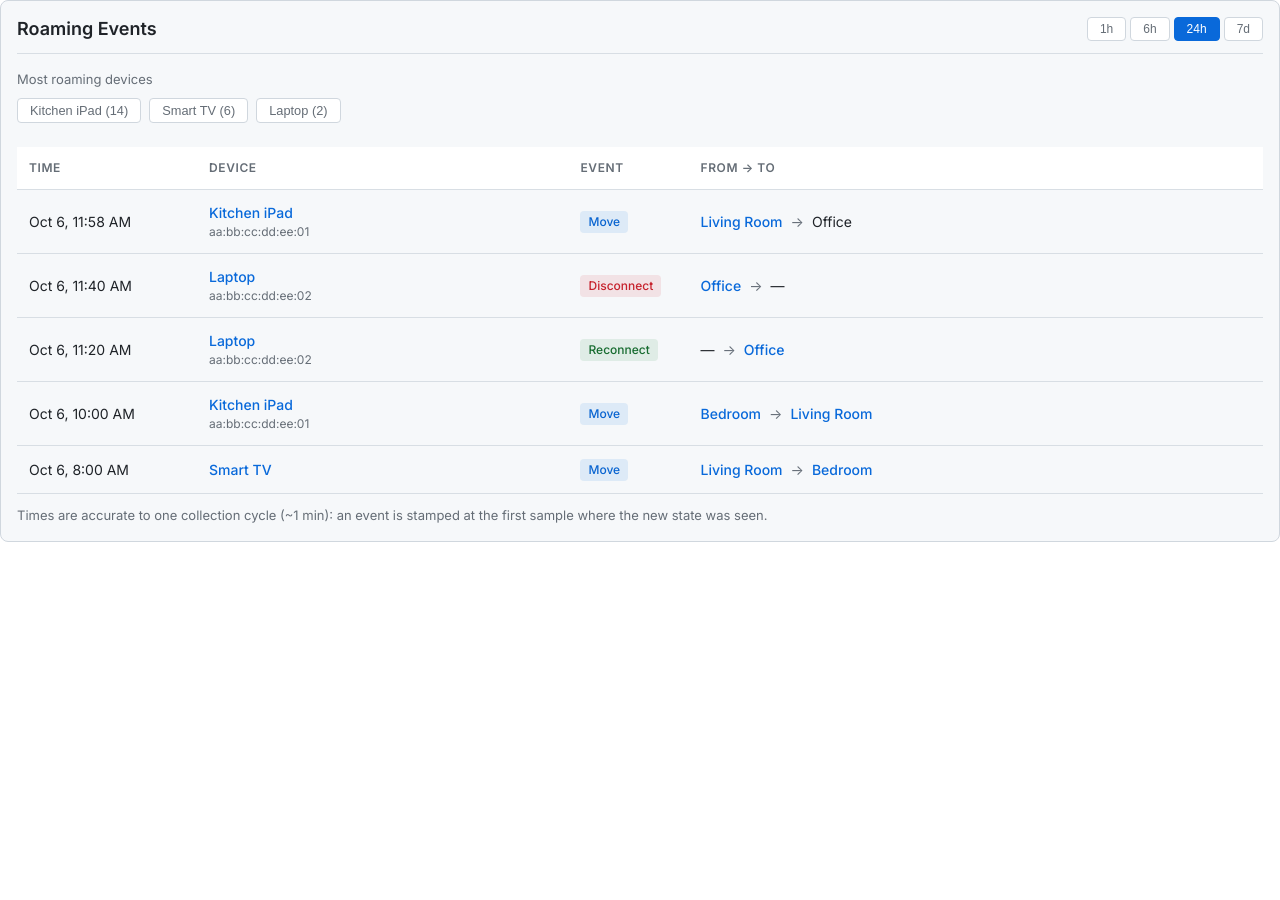
RoamingEventsCard › shows an error banner above the stale table when a same-scope refetch fails
expect the button "Kitchen iPad (14)" is shown: met, box [17,98,141,122]
Click the button "7d": point(1243, 29) [1224,17,1263,41]
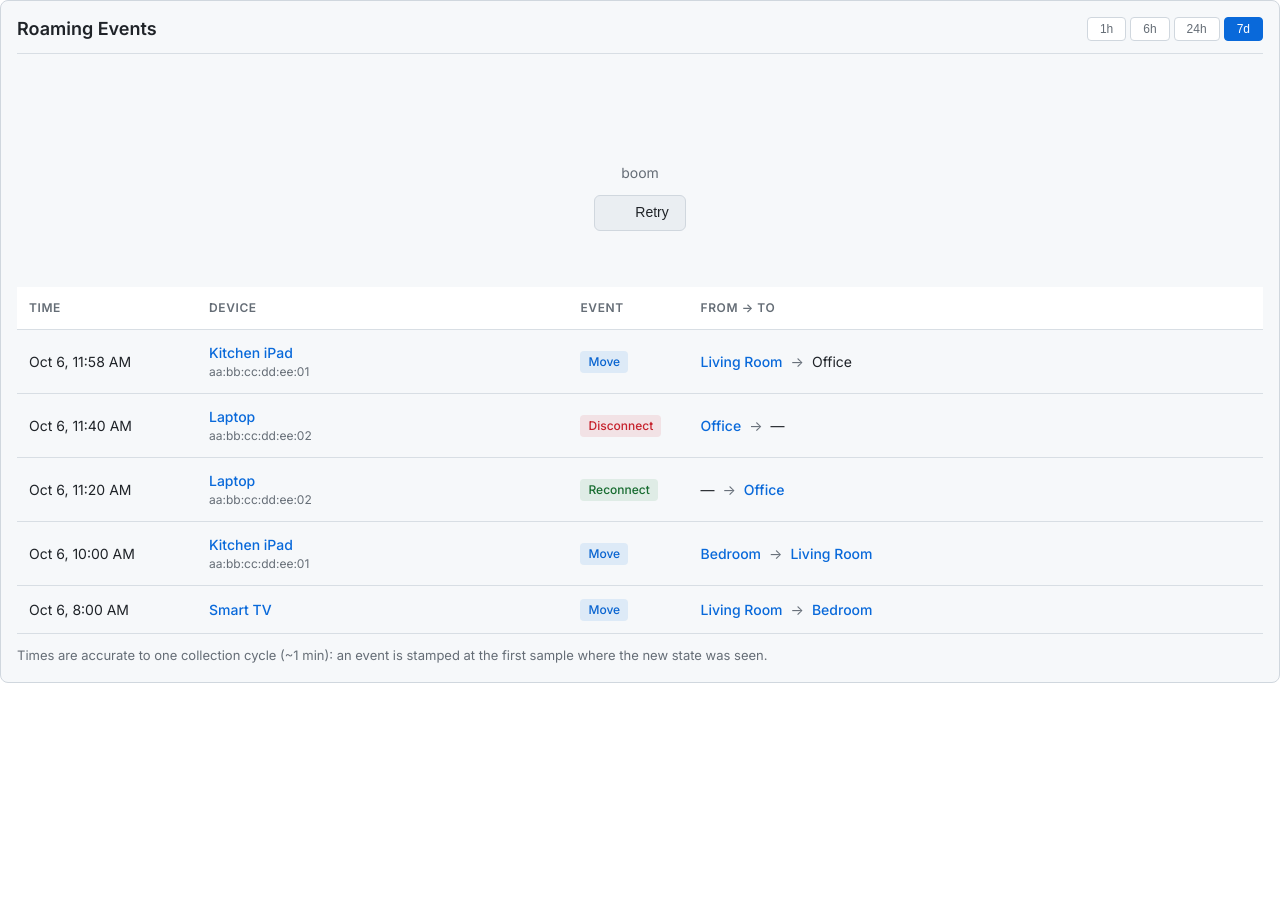
expect the link "Kitchen iPad" next to "Oct 6, 11:58 AM" is shown: met, box [209,344,293,361]
expect the message shows "boom": met, box [621,164,659,181]
